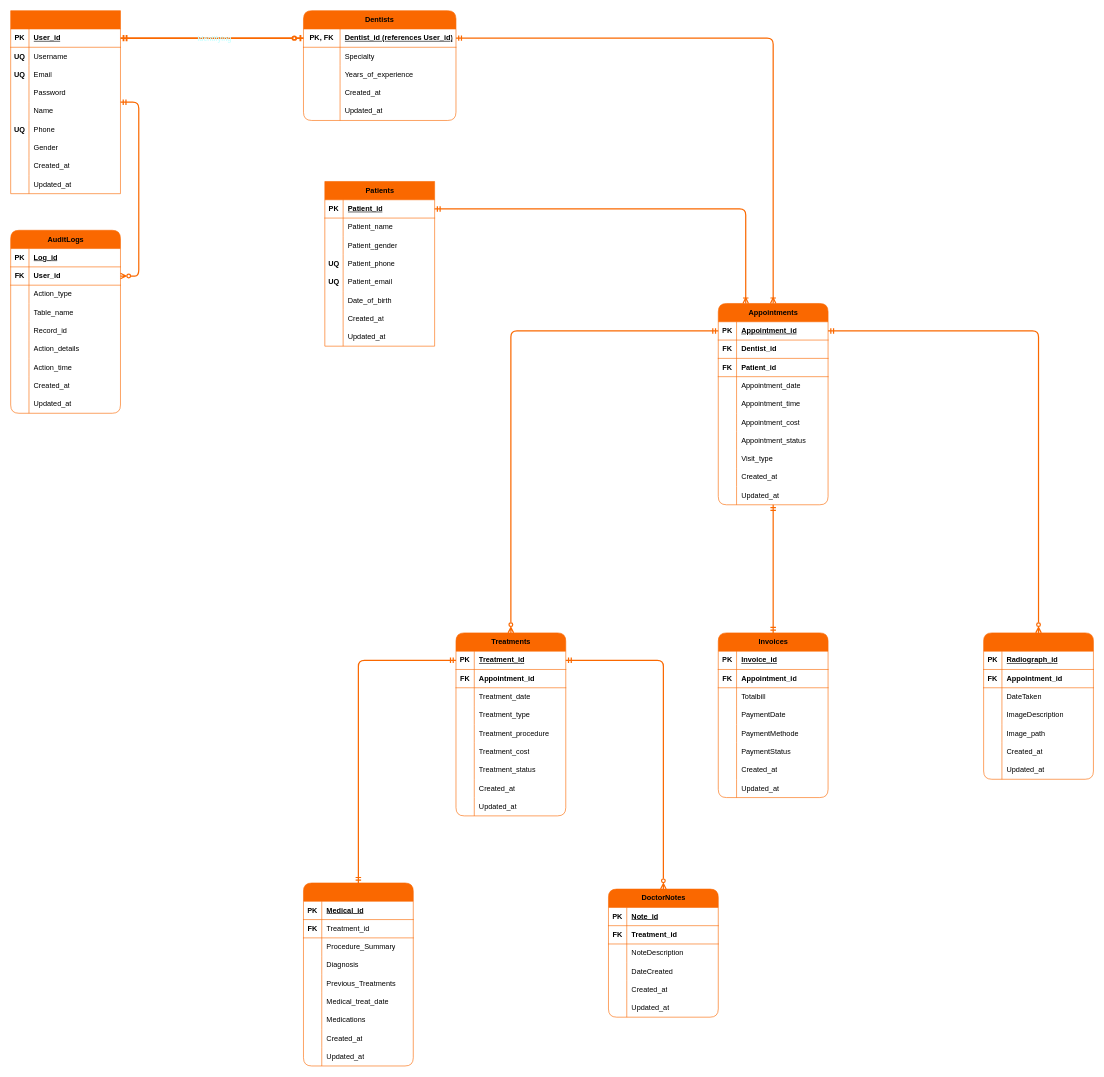
Some shapes in this 1104 by 1077 pixel diagram are drawn without their labels. Each missing label, with the box of its shape:
MedicalHistories: (303, 882, 413, 1066)
Radiographs: (983, 632, 1093, 779)
Users: (10, 10, 120, 194)
